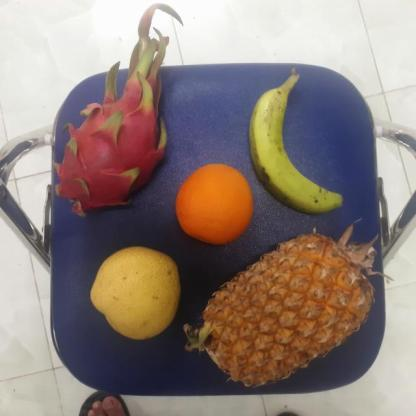banana: (247, 86, 349, 218)
orange: (175, 162, 253, 246)
pear: (86, 245, 184, 339)
pineapple: (206, 230, 376, 391)
pitaya: (54, 88, 170, 211)
